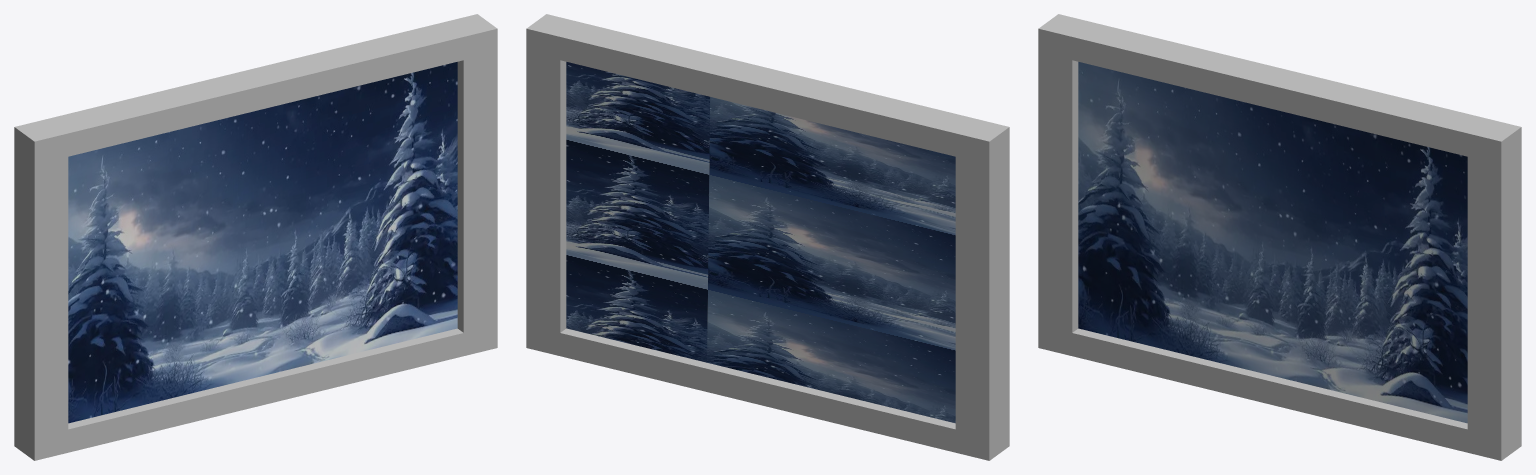
The model's file is 2. 액자- 복사본 1.fbx.
3 renders of one model, left to right at view 1: azimuth 30°, elevation 25°; view 2: azimuth 150°, elevation 25°; view 3: azimuth 330°, elevation 25°, orthographic.
Visible parts, largest first — view 1: 액자틀; view 2: 액자틀; view 3: 액자틀.
Boxes of the visible parts, box(x1,y1,x2,y2) form: 액자틀: box(14, 14, 497, 460); 액자틀: box(526, 14, 1009, 460); 액자틀: box(1038, 14, 1521, 460).
Bounding box in the file's own units: 245 × 162 × 18.42.
